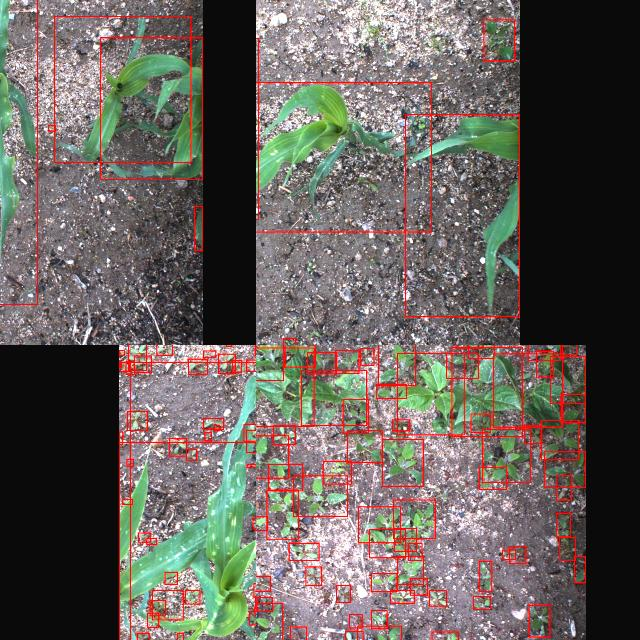crop: (129, 361, 256, 640), (118, 442, 256, 640), (256, 82, 431, 231), (405, 114, 519, 316), (54, 16, 190, 162), (100, 37, 202, 179), (0, 0, 36, 304), (452, 346, 522, 436), (396, 352, 464, 433), (493, 354, 562, 426), (256, 347, 313, 425), (300, 370, 366, 424), (550, 356, 586, 402), (194, 206, 202, 250)
weed: (482, 428, 530, 482), (292, 475, 348, 515), (382, 438, 422, 486), (393, 499, 435, 538), (544, 451, 586, 487), (358, 506, 400, 542), (540, 419, 578, 458), (377, 345, 414, 385), (266, 489, 296, 538), (256, 435, 288, 477), (484, 20, 514, 60), (346, 430, 382, 462), (369, 528, 405, 558), (256, 602, 282, 640), (256, 345, 283, 380), (268, 464, 302, 491), (152, 589, 182, 619), (342, 399, 368, 433), (446, 352, 478, 378), (560, 393, 586, 422), (397, 556, 423, 584), (528, 604, 550, 636), (322, 461, 352, 484), (357, 625, 401, 640), (284, 345, 314, 366), (478, 466, 506, 488), (306, 352, 336, 372), (288, 542, 318, 560), (334, 350, 358, 372), (394, 528, 416, 550), (536, 350, 554, 376), (370, 573, 396, 591), (527, 345, 560, 359), (127, 345, 145, 370), (272, 424, 294, 444), (478, 561, 492, 591), (375, 384, 405, 398), (556, 474, 572, 500), (126, 410, 146, 430), (559, 536, 575, 560), (470, 413, 490, 432), (218, 353, 235, 373), (556, 512, 570, 536), (168, 438, 186, 456), (524, 425, 542, 443), (574, 556, 586, 582), (468, 345, 493, 357), (188, 358, 206, 374), (134, 354, 150, 372), (305, 566, 321, 584), (370, 610, 386, 628), (390, 590, 414, 602), (428, 589, 446, 605), (409, 578, 427, 594), (149, 599, 165, 615), (509, 546, 525, 562), (407, 542, 421, 560), (335, 584, 349, 602), (245, 430, 256, 452), (289, 626, 306, 640), (431, 631, 457, 640), (184, 589, 200, 603), (256, 596, 272, 610), (243, 423, 256, 440), (361, 348, 374, 364), (474, 596, 491, 608), (203, 418, 223, 428), (348, 613, 362, 627), (256, 575, 269, 590), (146, 612, 158, 628), (344, 630, 362, 640), (391, 420, 409, 430), (164, 572, 176, 584), (156, 345, 172, 354), (501, 549, 515, 559), (256, 516, 266, 530), (562, 345, 576, 354), (137, 532, 149, 542), (125, 361, 134, 374), (135, 632, 148, 640), (248, 611, 256, 624), (202, 350, 215, 358), (186, 449, 196, 459), (246, 360, 256, 370), (119, 361, 129, 371), (232, 359, 240, 371), (282, 338, 295, 345), (203, 432, 210, 441), (146, 538, 156, 544), (121, 498, 131, 504), (176, 632, 182, 640), (118, 431, 122, 443), (126, 458, 132, 466), (252, 517, 256, 528), (253, 583, 256, 597), (213, 424, 219, 430), (48, 126, 54, 130), (118, 350, 124, 354), (246, 464, 256, 466), (253, 607, 256, 613), (118, 362, 120, 366)
